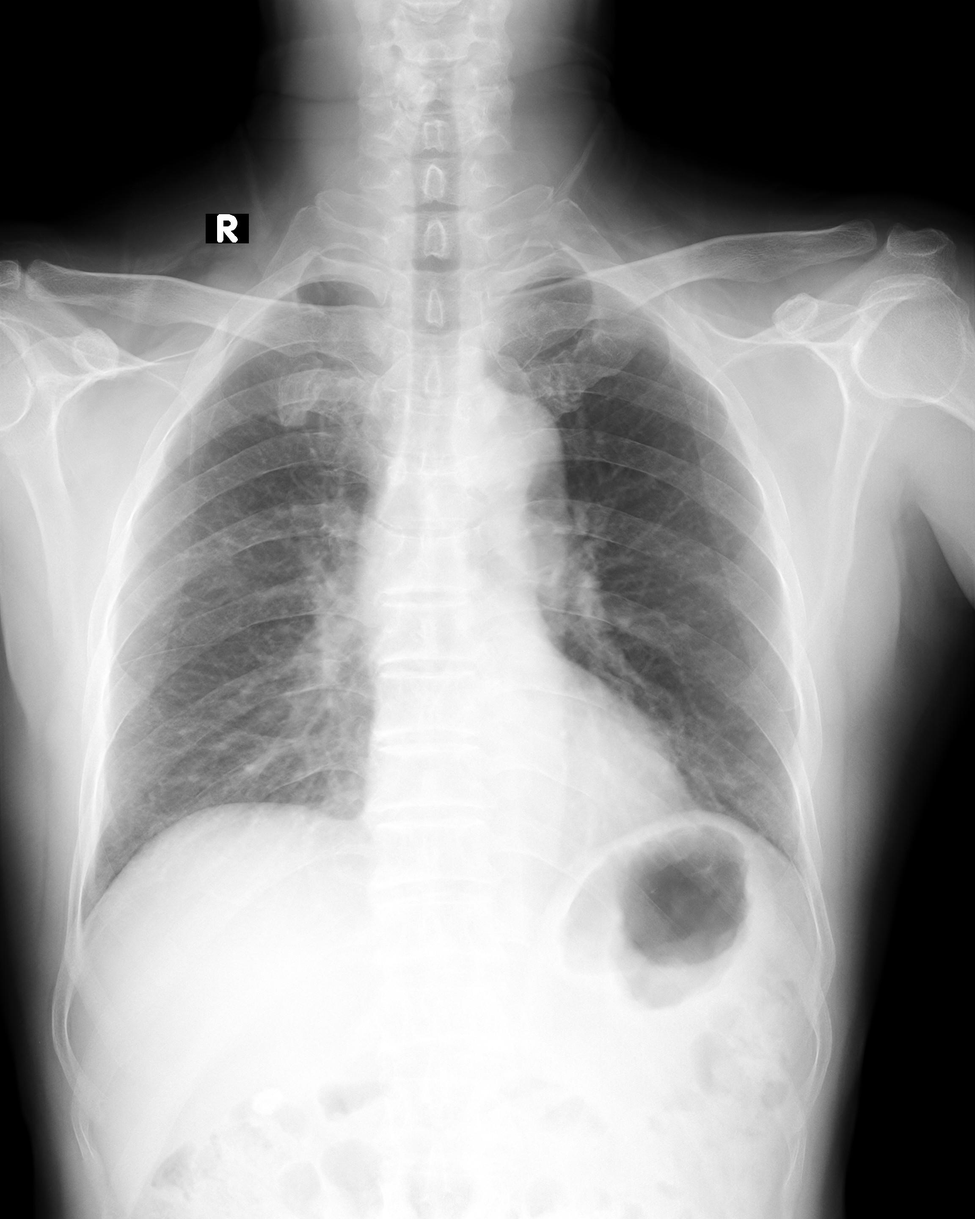Aortic enlargement: (445, 386, 559, 524)
